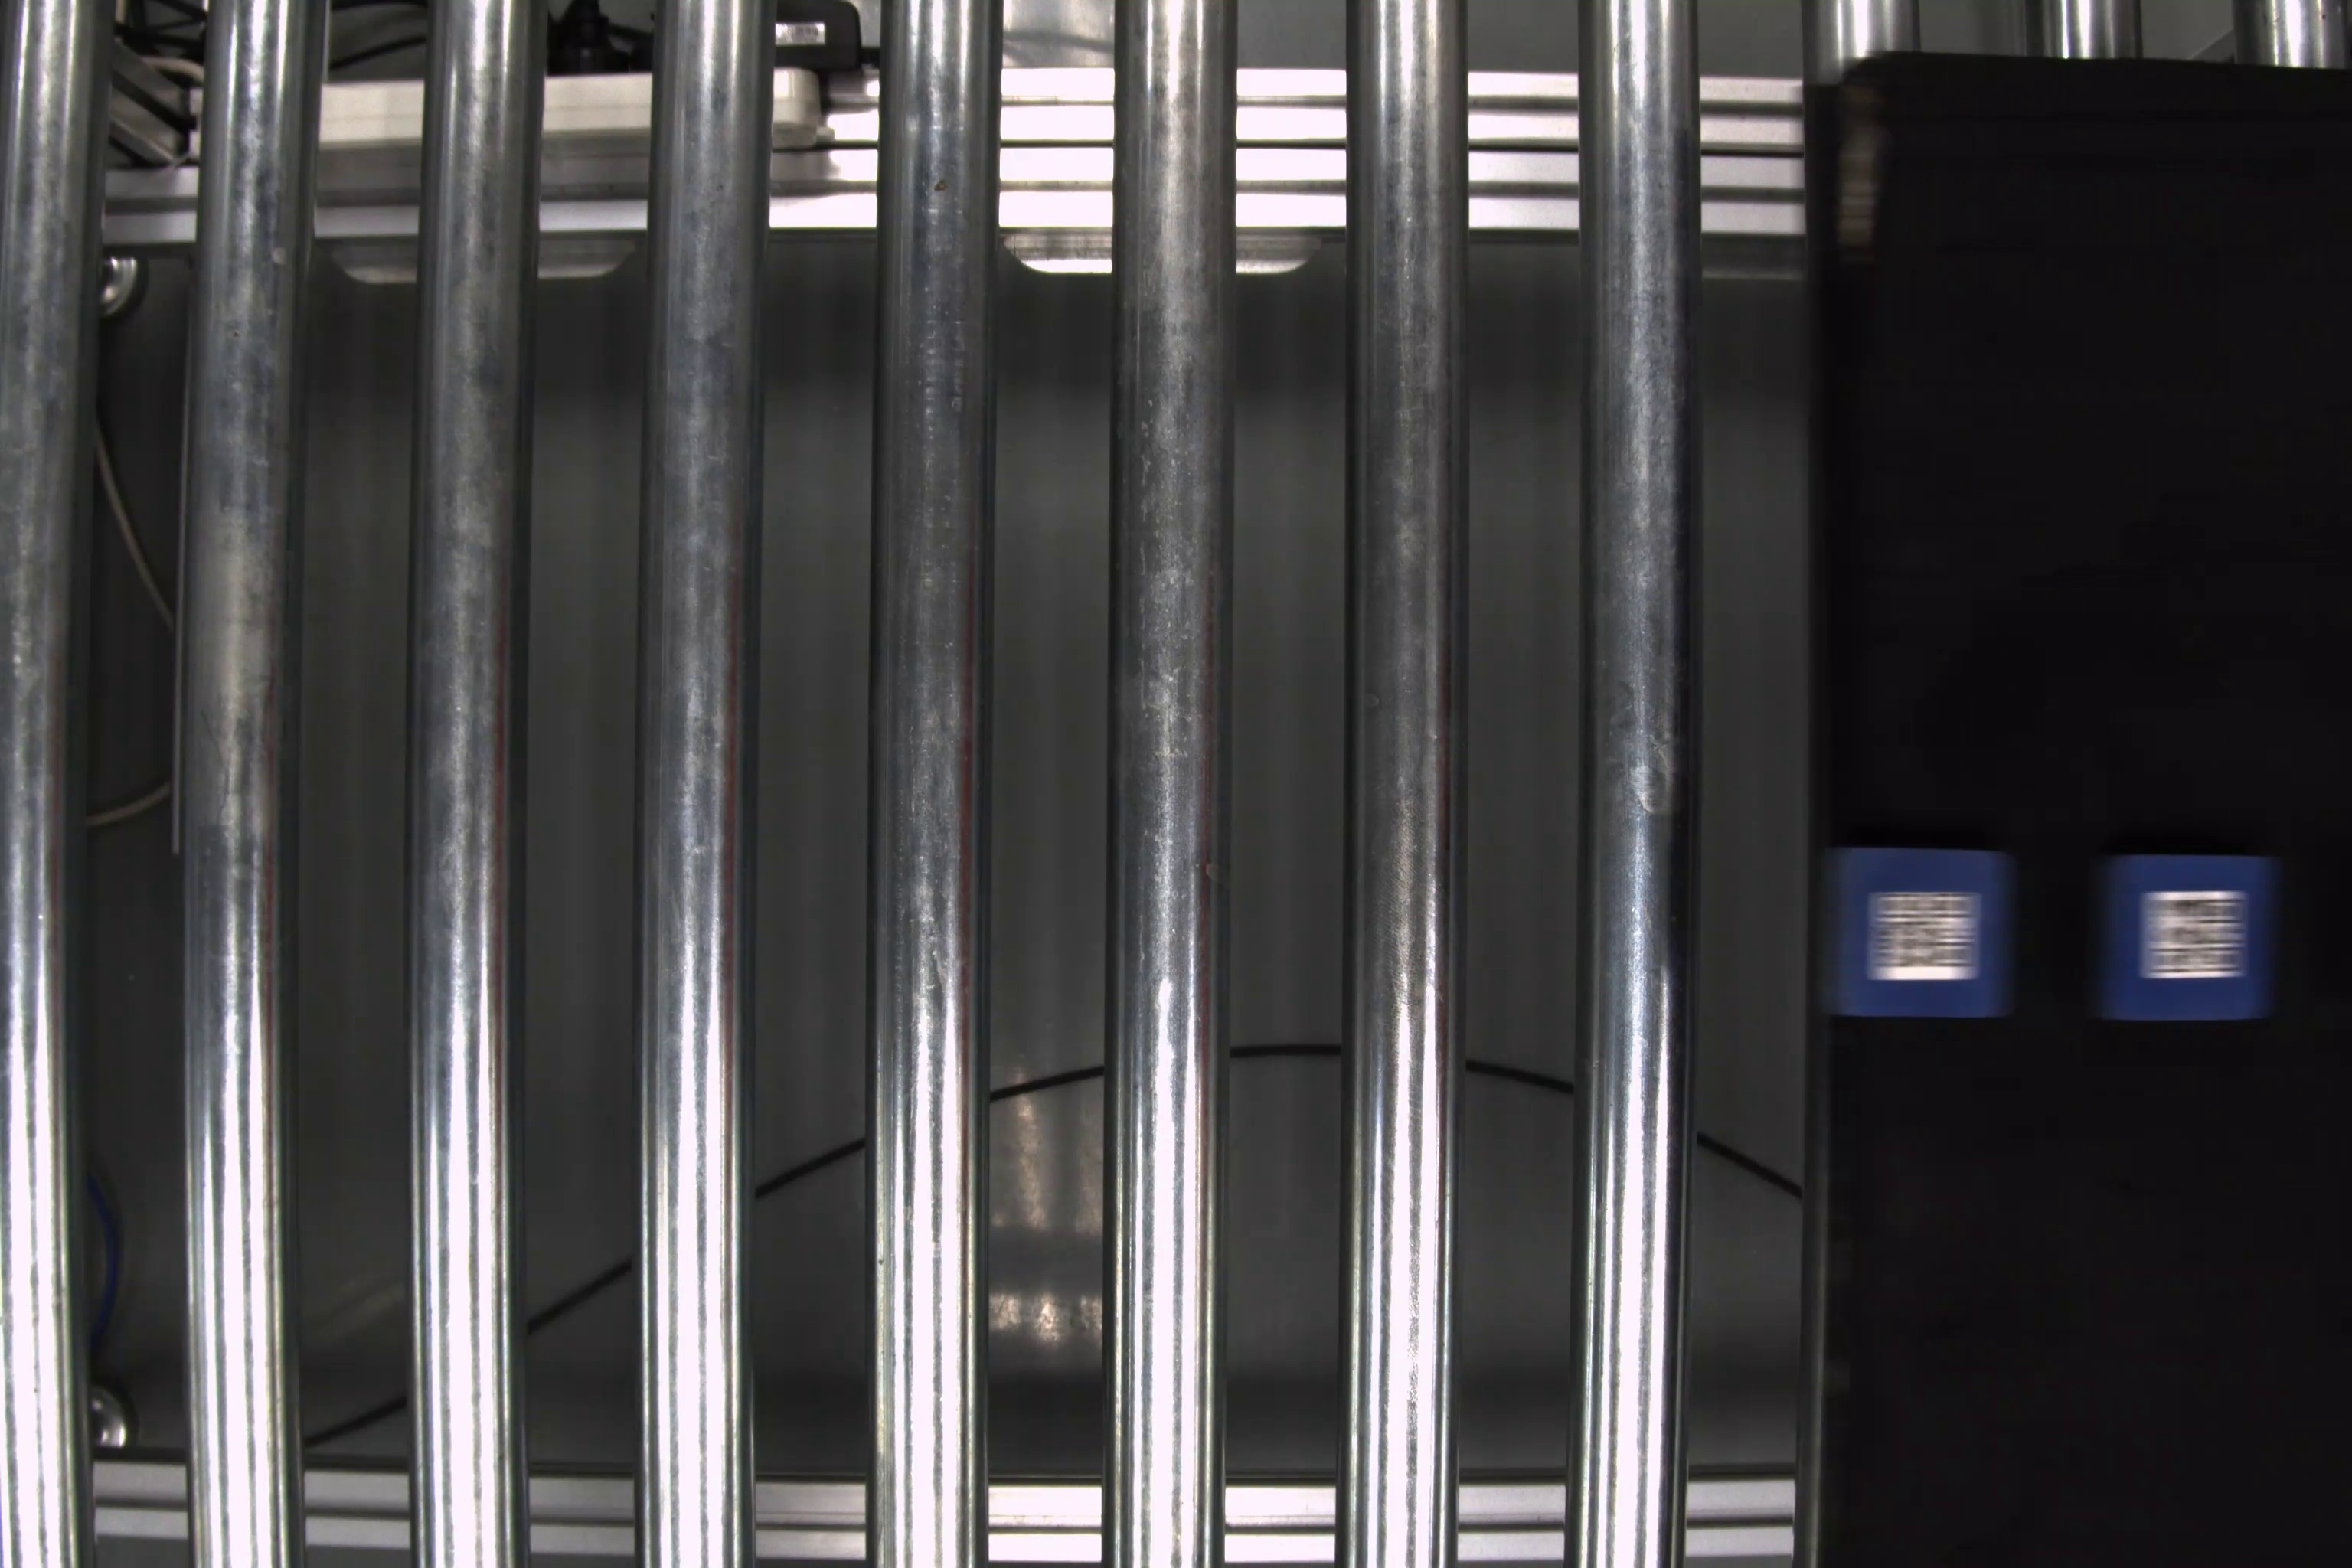wood: (1822, 842, 2019, 1015), (2093, 854, 2282, 1025)
